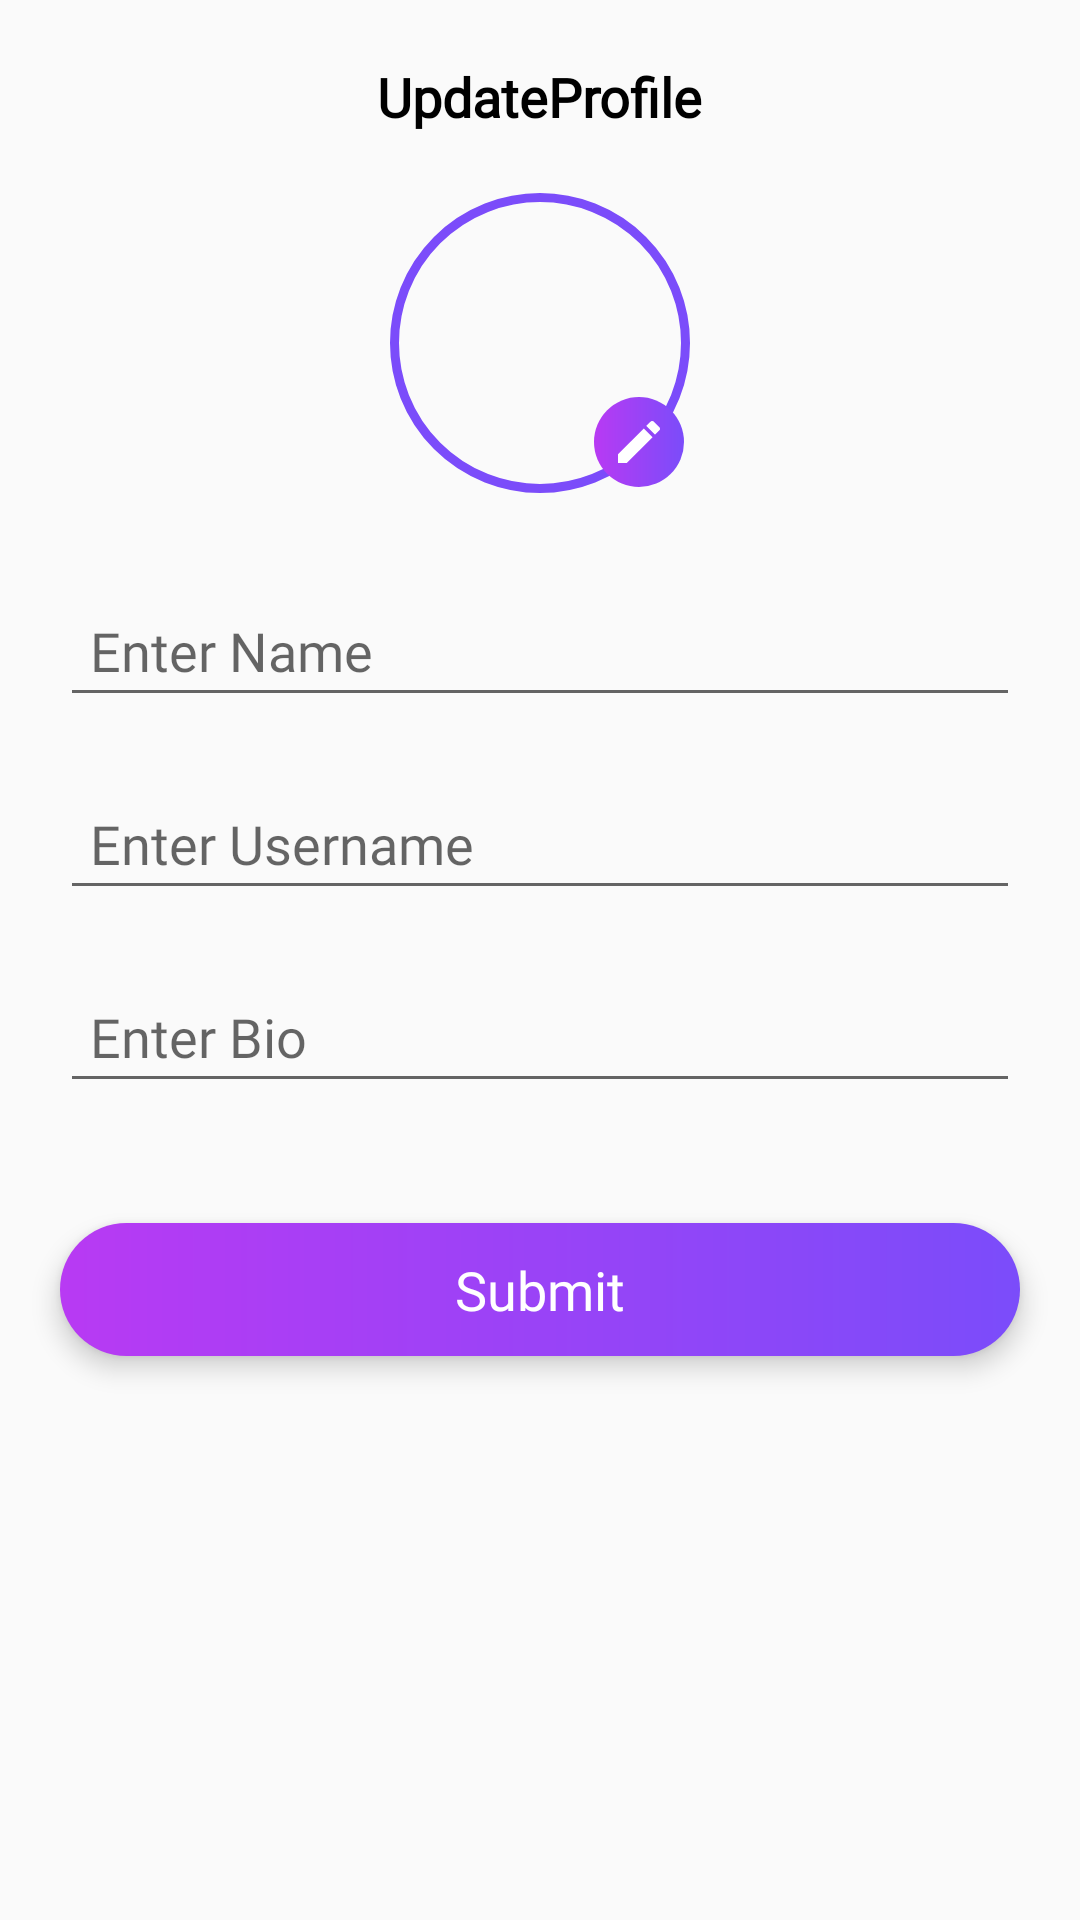

Screen size 1080 x 1920. Icon name, then its center in pixels as point (x, y):
edit: point (639, 442)
